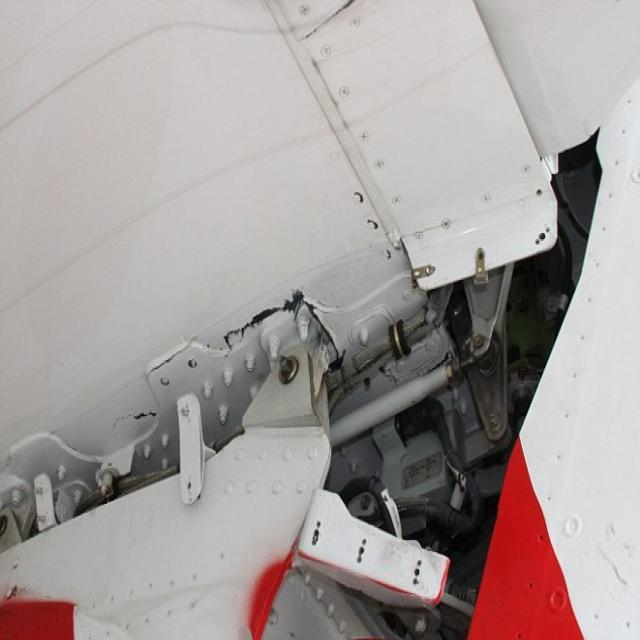Crack: (220, 290, 341, 372), (143, 335, 199, 381), (113, 407, 158, 429)
